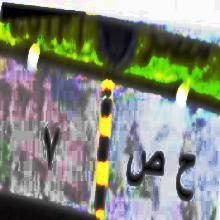7: (42, 118, 61, 174)
7aa: (174, 141, 196, 207)
saad: (122, 140, 164, 194)
